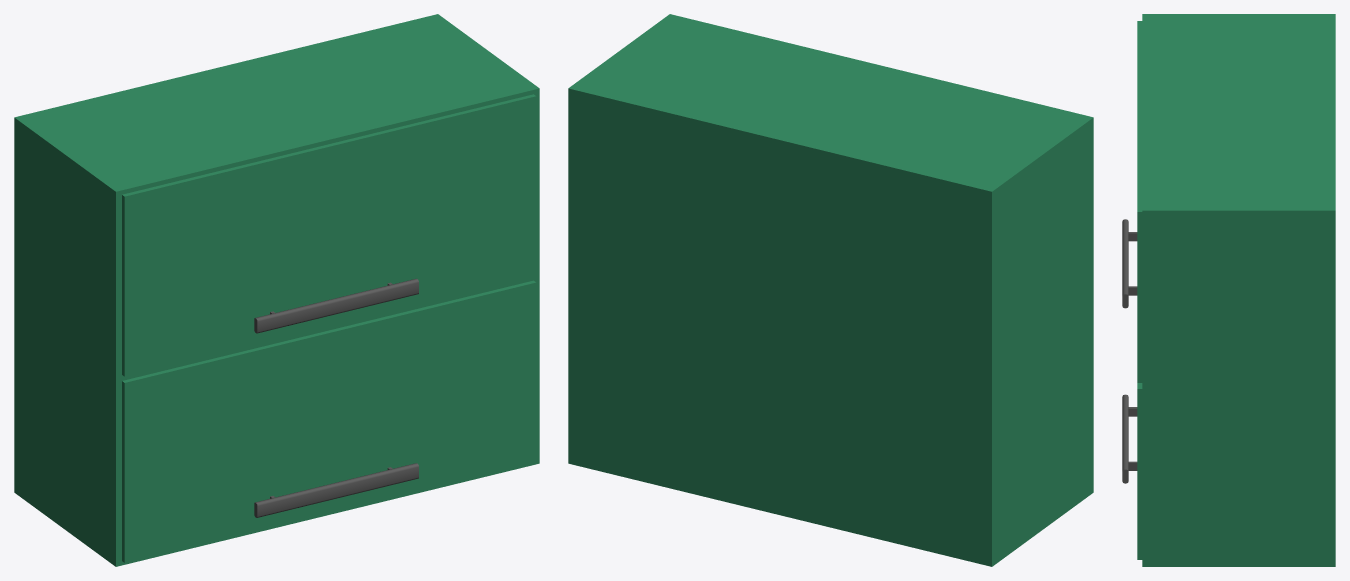
The model's file is mcp_kitchen_cupboard_wall_01.FBX.
3 renders of one model, left to right at view 1: azimuth 30°, elevation 25°; view 2: azimuth 150°, elevation 25°; view 3: azimuth 270°, elevation 25°, orthographic. The views are drawn at different scales.
Visible parts, largest first — view 1: mcp_kitchen_cupboard_wall_01, mcp_kitchen_cupboard_wall_01_knobs; view 2: mcp_kitchen_cupboard_wall_01; view 3: mcp_kitchen_cupboard_wall_01, mcp_kitchen_cupboard_wall_01_knobs.
Part boxes in pixels (x1,y1,x2,y2): mcp_kitchen_cupboard_wall_01: [14, 14, 539, 566]; mcp_kitchen_cupboard_wall_01_knobs: [254, 278, 418, 517]; mcp_kitchen_cupboard_wall_01: [568, 14, 1093, 566]; mcp_kitchen_cupboard_wall_01: [1137, 14, 1335, 566]; mcp_kitchen_cupboard_wall_01_knobs: [1122, 219, 1137, 483].
Bounding box in the file's own units: 112 × 94.66 × 51.28.
